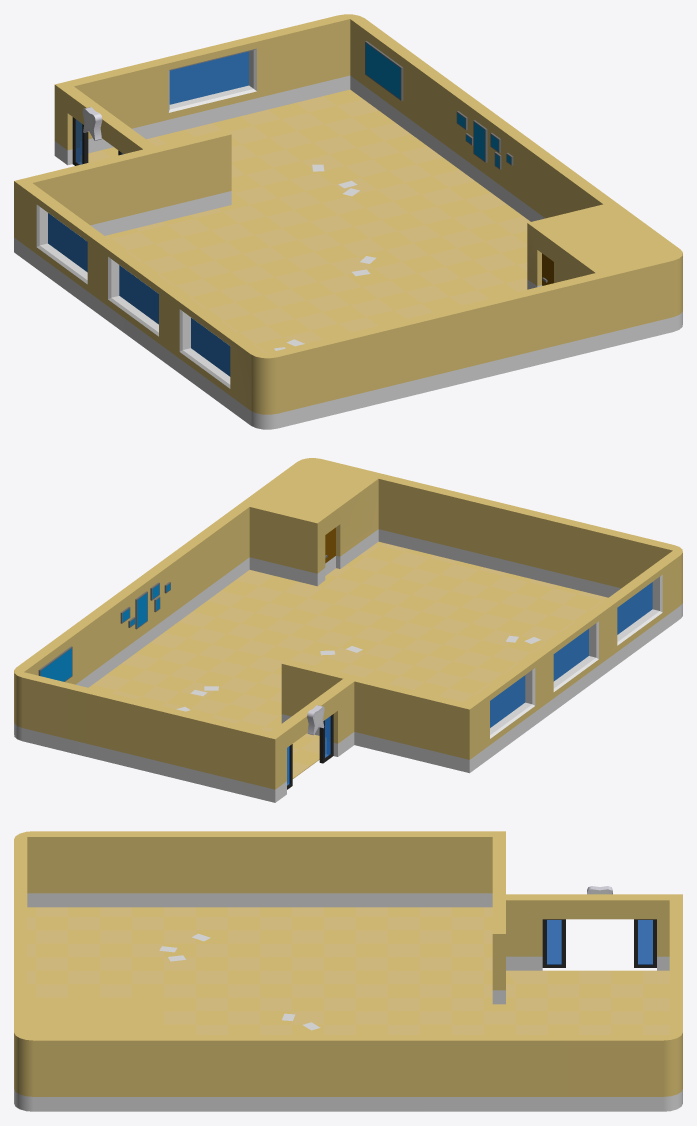
Rendered from hospital.fbx.
The picture shows the model from 3 angles, top to bottom: view 1: azimuth 30°, elevation 25°; view 2: azimuth 150°, elevation 25°; view 3: azimuth 270°, elevation 25°; orthographic projection. The views are drawn at different scales.
Parts seen in each view (by area): view 1: hospital; view 2: hospital; view 3: hospital.
Boxes of the visible parts, left/top/right/bottom form: hospital: left=14, top=14, right=682, bottom=429; hospital: left=14, top=458, right=682, bottom=802; hospital: left=14, top=831, right=682, bottom=1111.
Size of the model in its own units: 3432 by 581 by 4636.
